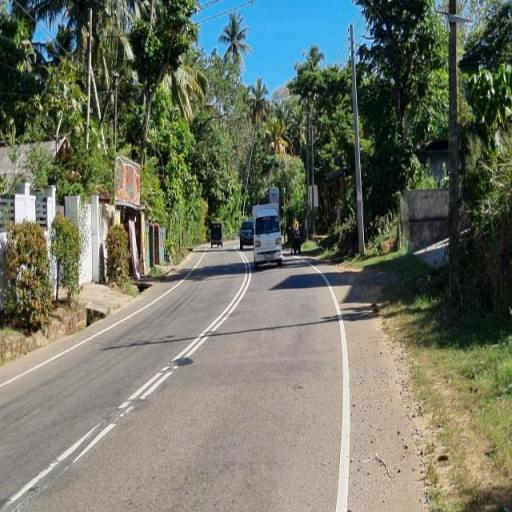double_white_line: (115, 256, 249, 422)
